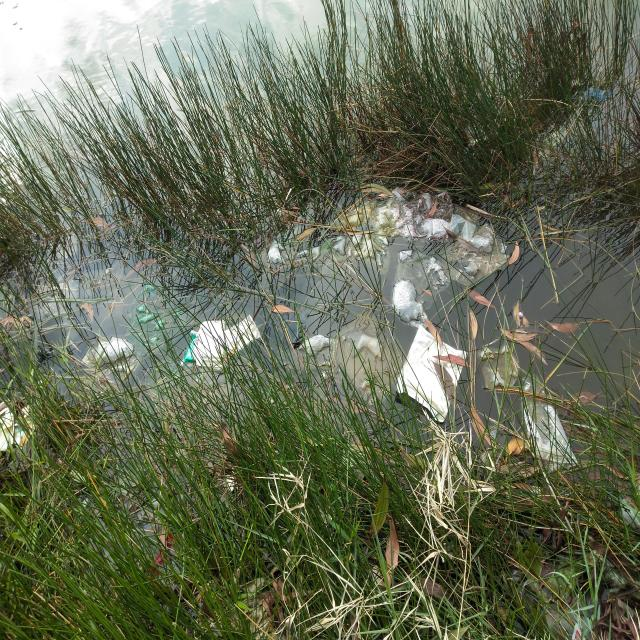litter: (254, 188, 482, 275), (332, 306, 407, 409), (396, 325, 468, 423), (521, 373, 579, 472), (391, 249, 452, 328), (80, 337, 146, 409), (441, 223, 510, 286), (126, 282, 180, 356), (283, 321, 338, 371), (148, 533, 184, 592), (478, 343, 519, 391), (0, 398, 37, 451), (79, 259, 127, 298), (508, 567, 540, 616), (225, 315, 261, 357), (196, 320, 226, 368), (76, 487, 97, 523), (180, 329, 198, 366), (576, 86, 614, 102), (222, 465, 235, 493), (572, 623, 586, 640)
